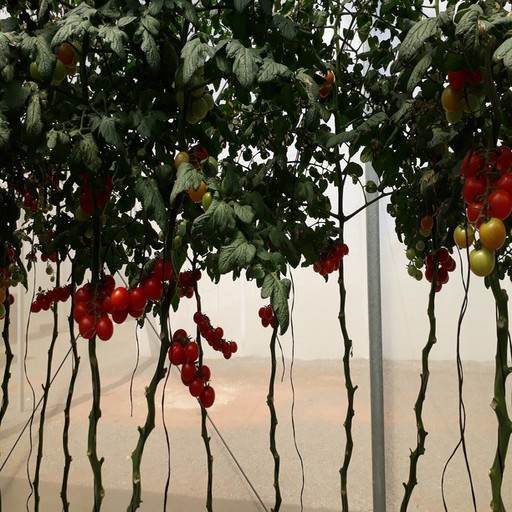green tomato bunch: (175, 57, 214, 124), (408, 201, 440, 281)
mixed tomato bunch: (174, 145, 234, 211), (440, 62, 484, 125), (24, 193, 61, 262), (29, 38, 79, 85), (1, 243, 24, 318), (304, 64, 332, 99)
red tomato bunch: (454, 146, 512, 274), (111, 260, 173, 323), (168, 329, 216, 407), (72, 275, 116, 341), (193, 313, 238, 359), (75, 173, 115, 213), (27, 283, 75, 313), (427, 247, 455, 295), (313, 244, 348, 276), (170, 270, 202, 297), (259, 304, 277, 329)
